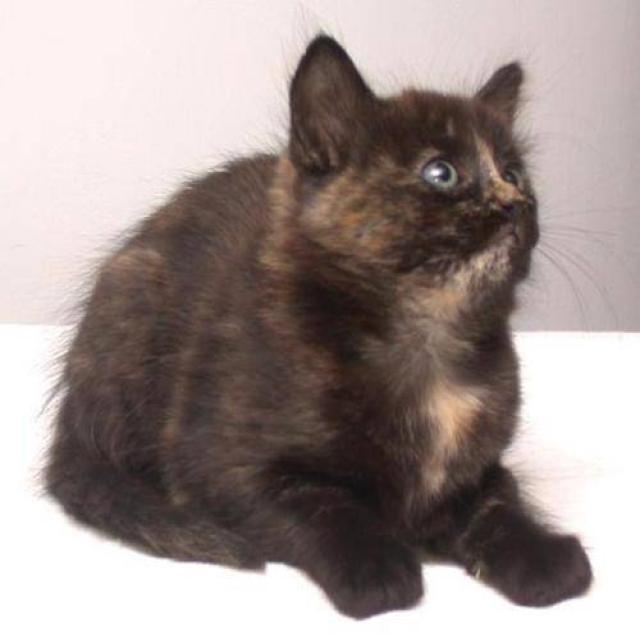Cat: (281, 34, 557, 349)
